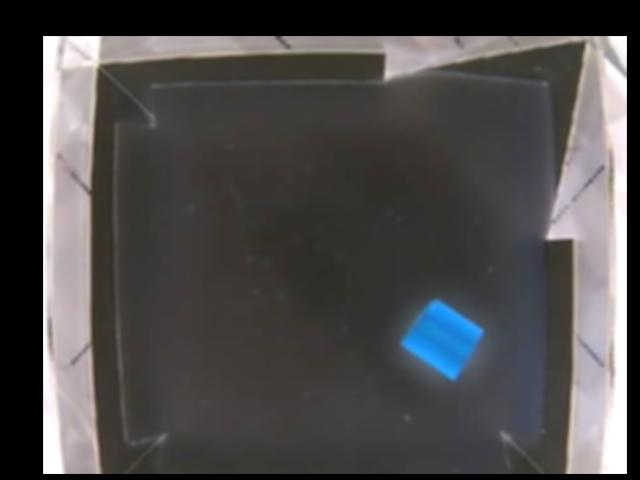Carrot: (400, 298, 483, 377)
